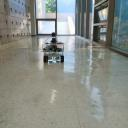cart: (43, 43, 64, 63)
